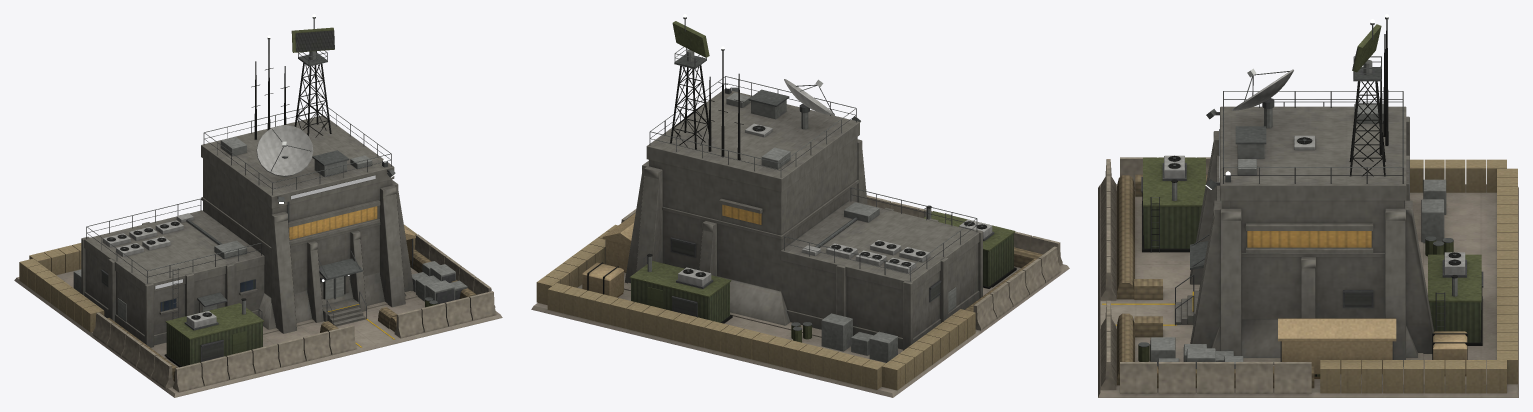
File: command_center.glb
3 renders of one model, left to right at view 1: azimuth 30°, elevation 25°; view 2: azimuth 150°, elevation 25°; view 3: azimuth 270°, elevation 25°, orthographic. The views are drawn at different scales.
Visible parts, largest first — view 1: Building, Props; view 2: Building, Props; view 3: Building, Props.
Boxes of the visible parts, x1=… form: Building: x1=14, y1=17, x2=502, y2=397; Props: x1=19, y1=224, x2=496, y2=392; Building: x1=531, y1=17, x2=1069, y2=397; Props: x1=536, y1=195, x2=1062, y2=390; Building: x1=1098, y1=17, x2=1518, y2=397; Props: x1=1101, y1=155, x2=1517, y2=393.
Size of the model in its own units: 26.11 by 18.75 by 22.
9 materials, 1 textured.
